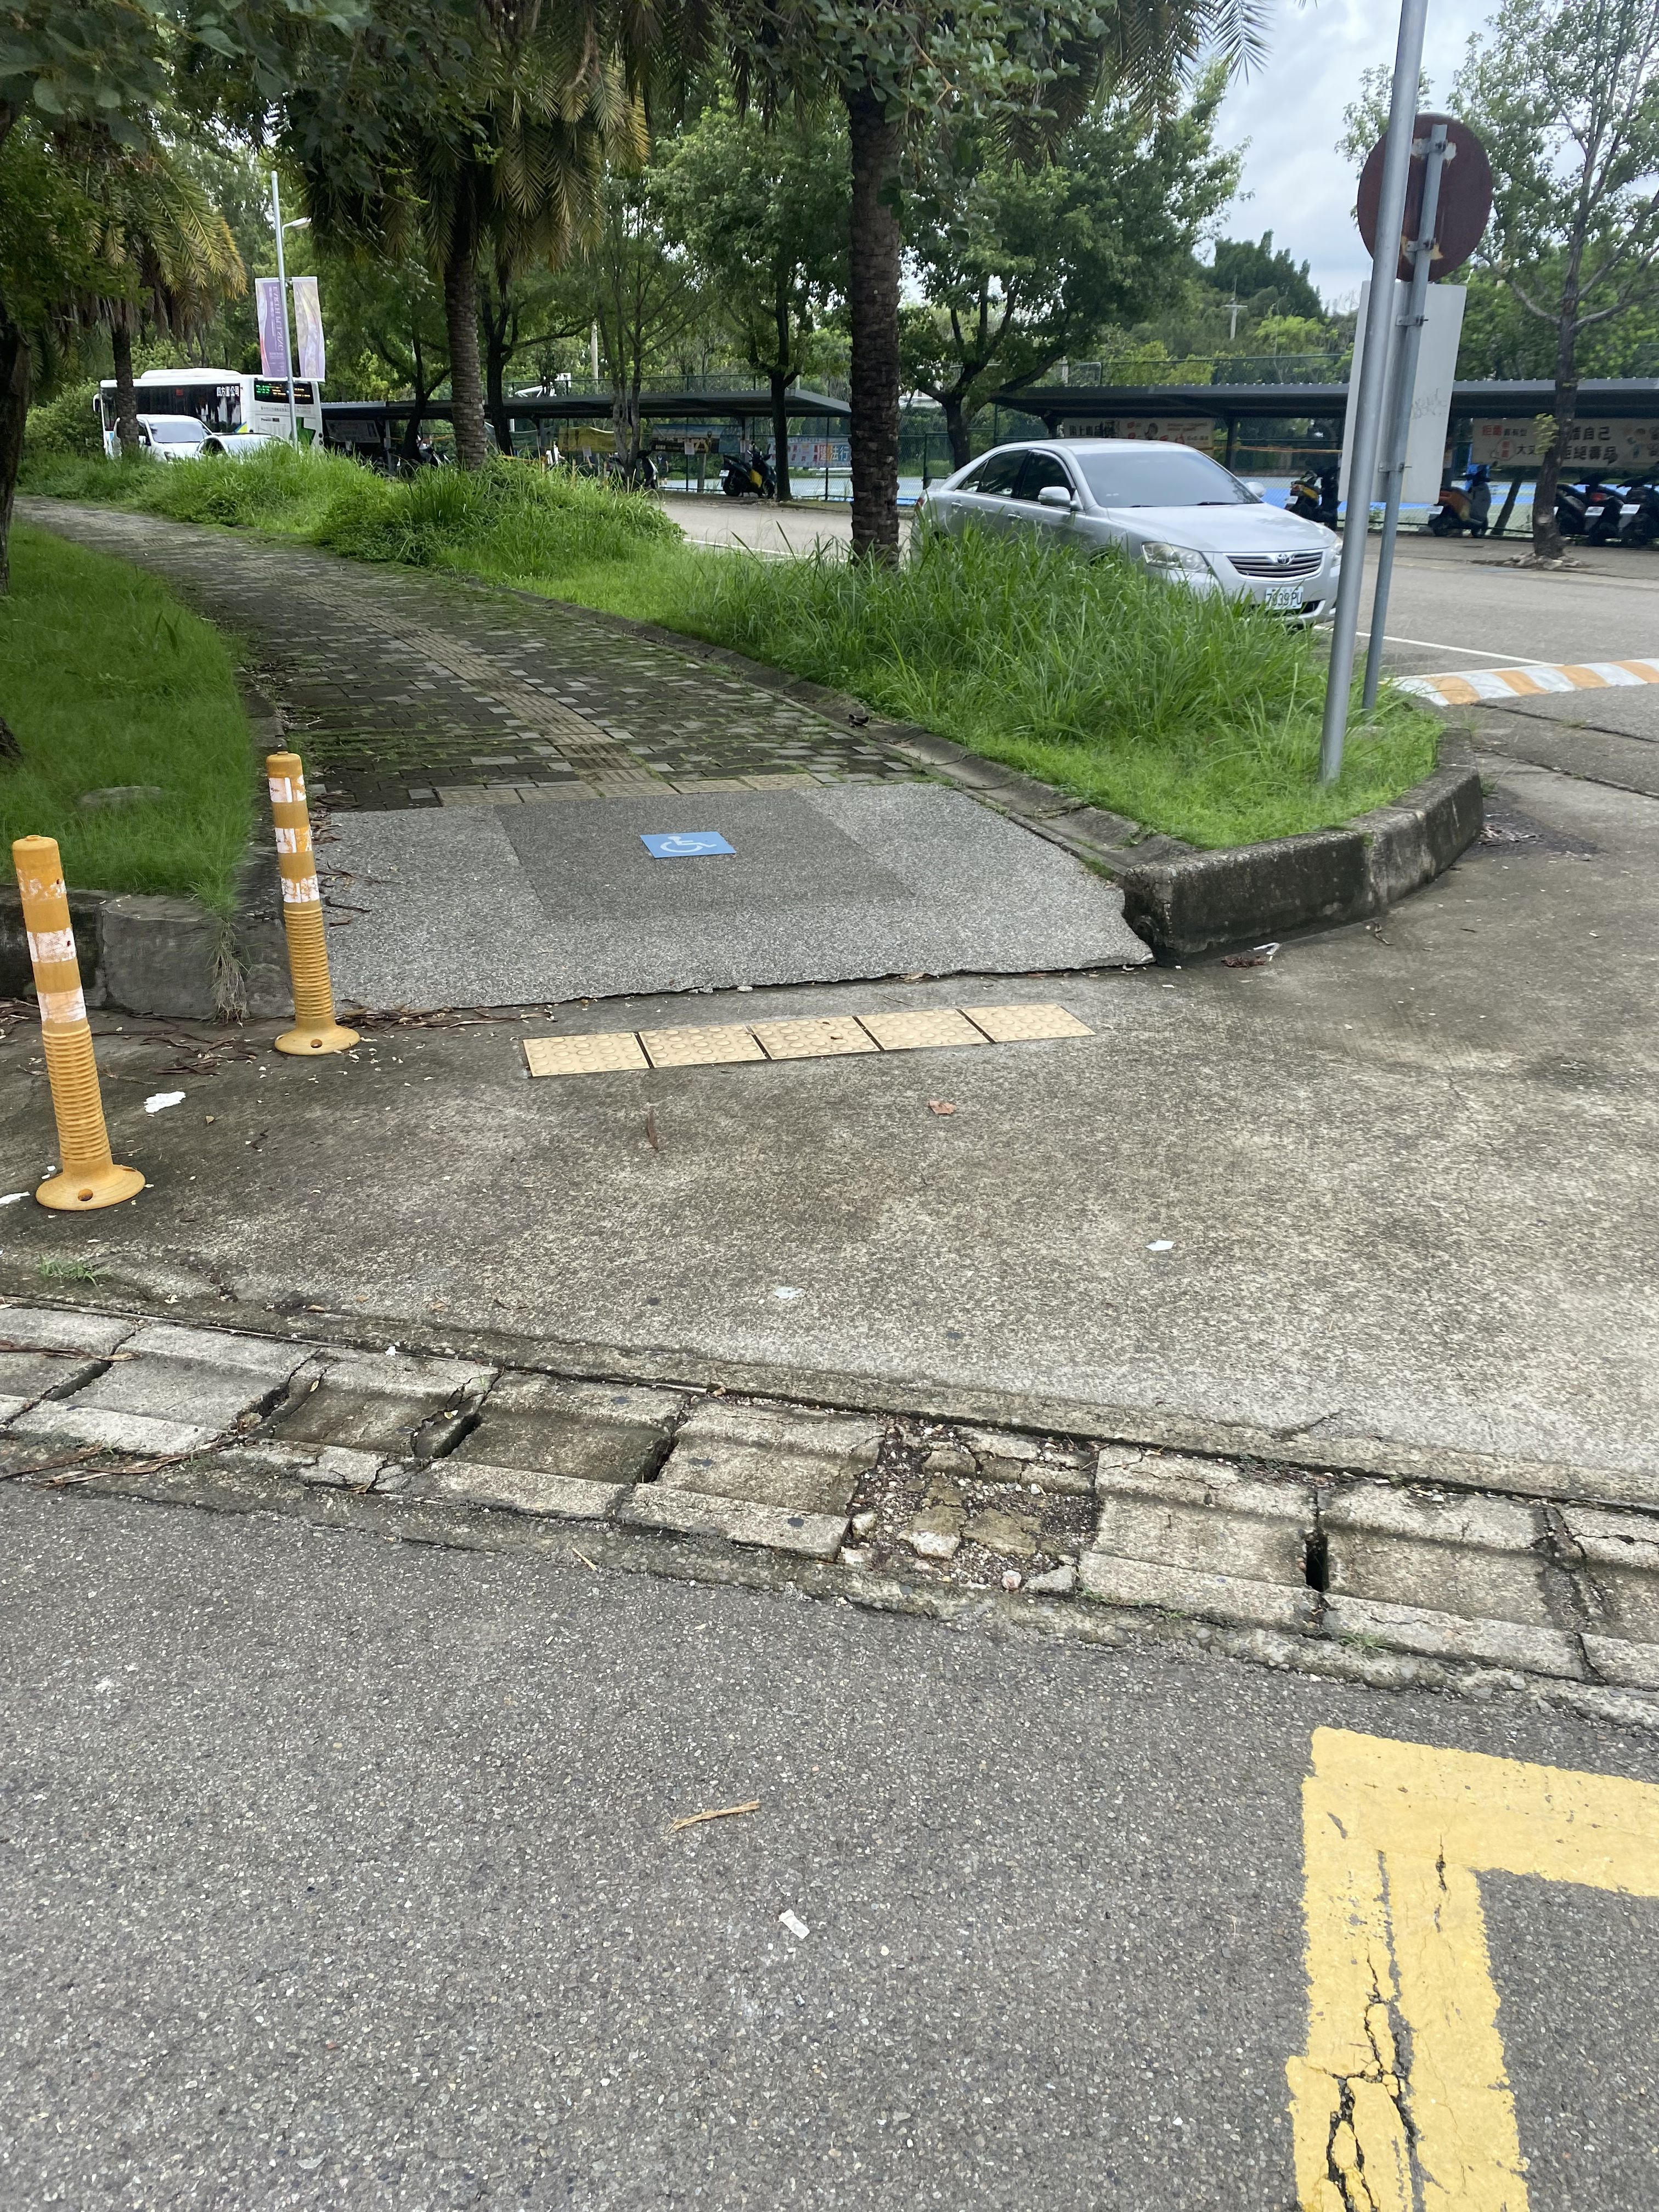sidewalk: (35, 488, 1243, 1120)
